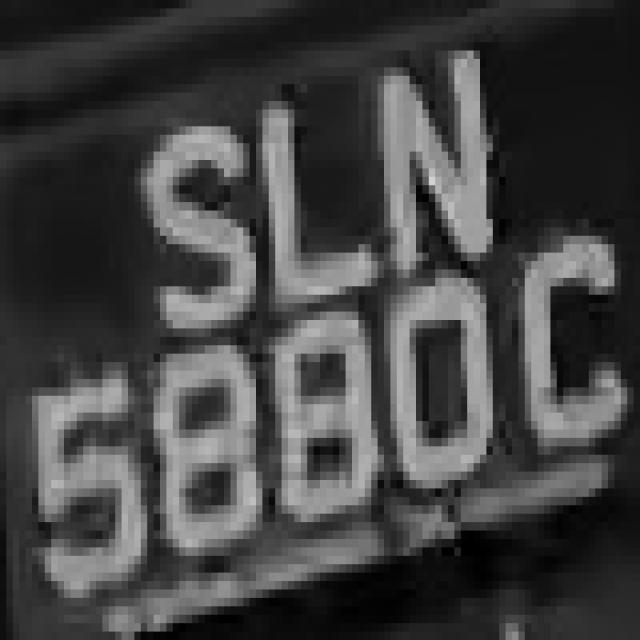0: (384, 227, 499, 488)
5: (19, 354, 154, 606)
8: (141, 320, 269, 581), (256, 295, 390, 539)
C: (525, 236, 627, 488)
L: (262, 67, 372, 337)
N: (371, 25, 499, 278)
S: (134, 92, 256, 354)
